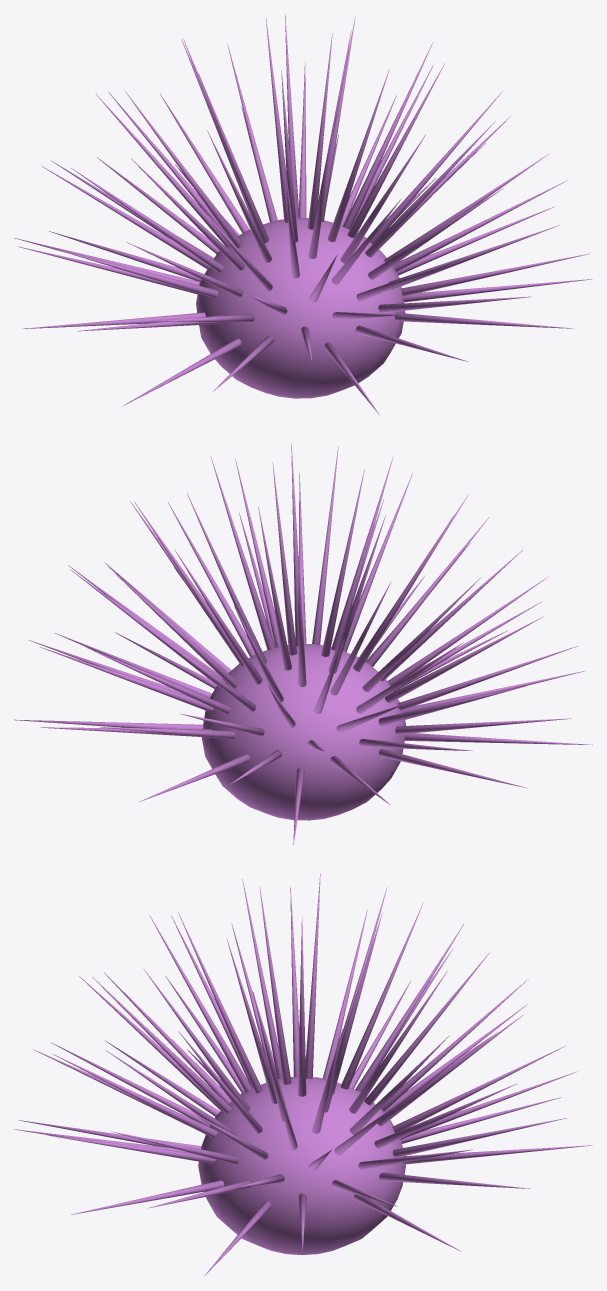
The model's file is ob_urchin.glb.
3 renders of one model, top to bottom at view 1: azimuth 30°, elevation 25°; view 2: azimuth 150°, elevation 25°; view 3: azimuth 270°, elevation 25°, orthographic. The views are drawn at different scales.
Visible parts, largest first — view 1: long-spined-urchin_0; view 2: long-spined-urchin_0; view 3: long-spined-urchin_0.
Boxes of the visible parts, <box> form: long-spined-urchin_0: <box>14,14,592,414</box>; long-spined-urchin_0: <box>14,443,592,844</box>; long-spined-urchin_0: <box>14,873,592,1276</box>.
Size of the model in its own units: 1.28 by 0.835 by 1.28.
